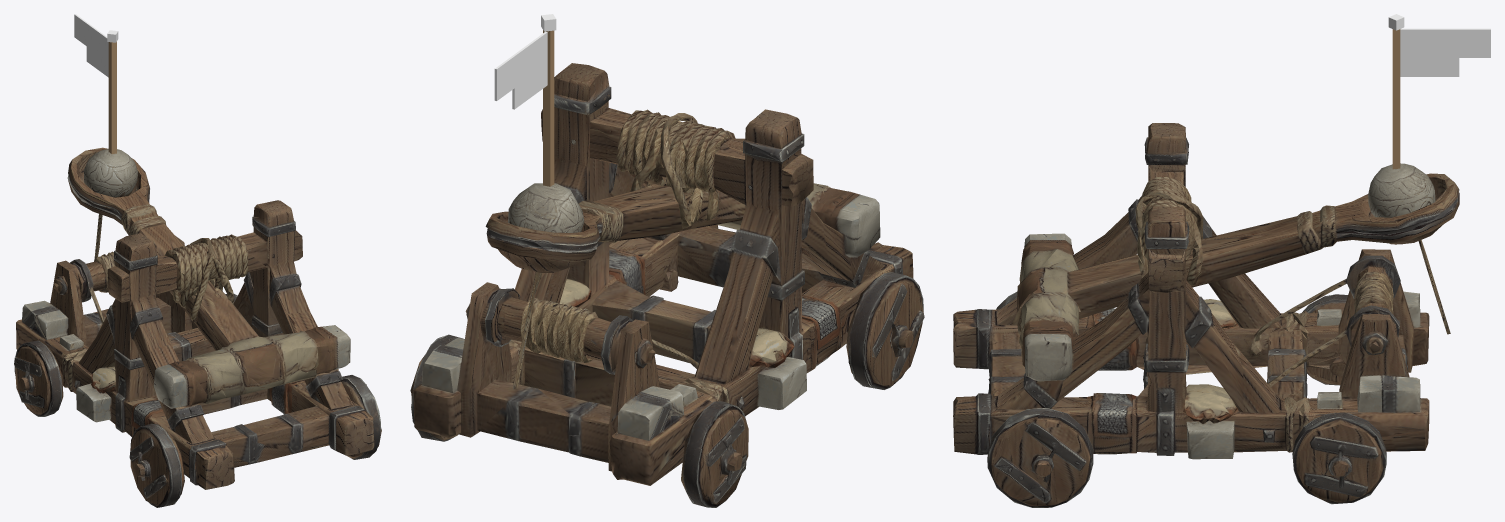
The model's file is mangonel.glb.
3 renders of one model, left to right at view 1: azimuth 30°, elevation 25°; view 2: azimuth 150°, elevation 25°; view 3: azimuth 270°, elevation 25°, orthographic. The views are drawn at different scales.
Visible parts, largest first — view 1: mangonel, Team_pennant; view 2: mangonel, Team_pennant; view 3: mangonel, Team_pennant.
Part boxes in pixels (<box>): mangonel: <box>14,147,381,507</box>; Team_pennant: <box>74,14,118,154</box>; mangonel: <box>410,63,924,507</box>; Team_pennant: <box>494,14,556,186</box>; mangonel: <box>953,123,1459,507</box>; Team_pennant: <box>1388,14,1490,169</box>.
Size of the model in its own units: 1.27 by 1.77 by 2.01.
Materials: 3 (1 with a texture image).
